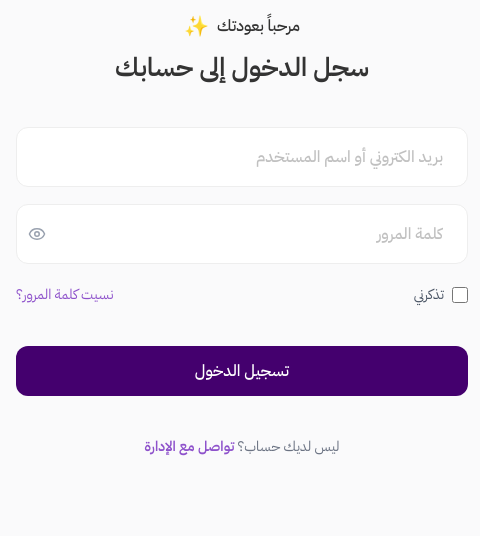
Test: LoginPage Component › shows error message on failed login
In the field with placeholder "بريد الكتروني أو اسم المستخدم": (242, 157) [16,127,468,187], type "wronguser"
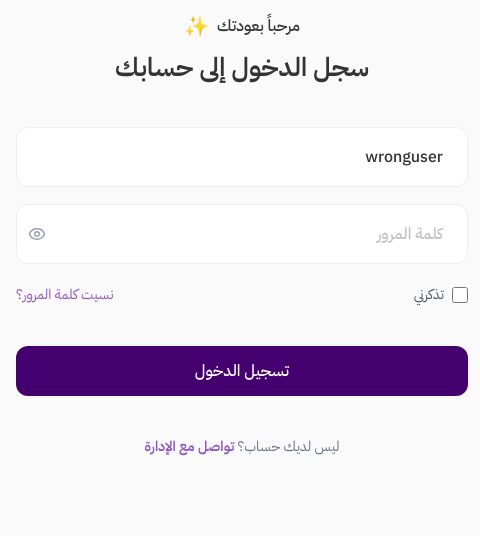
In the password field with placeholder "كلمة المرور": (242, 234) [16,204,468,264], type "wrongpass"
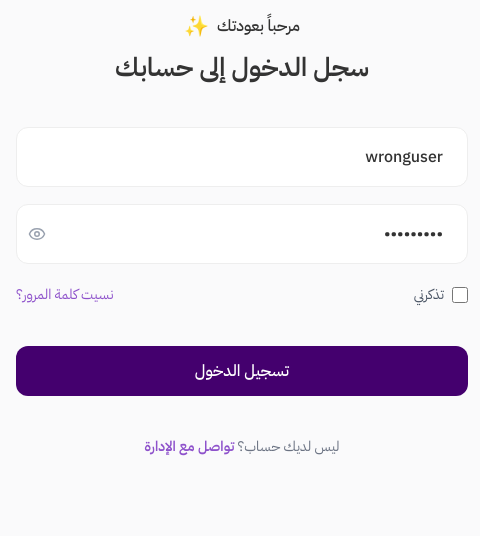
Click the button "تسجيل الدخول": click(242, 371) [16,346,468,396]
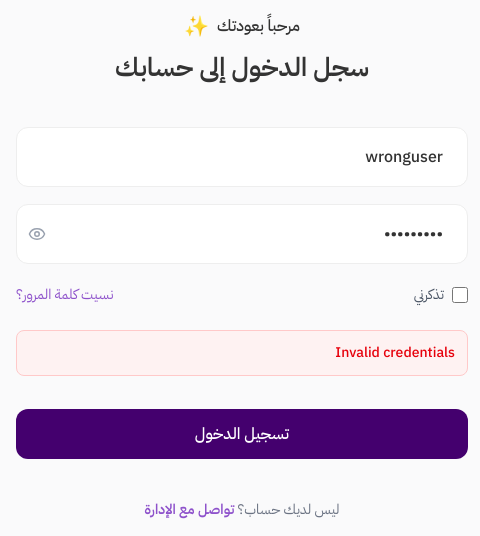
Expected: the text "Invalid credentials" is shown, [16,330,468,376]
